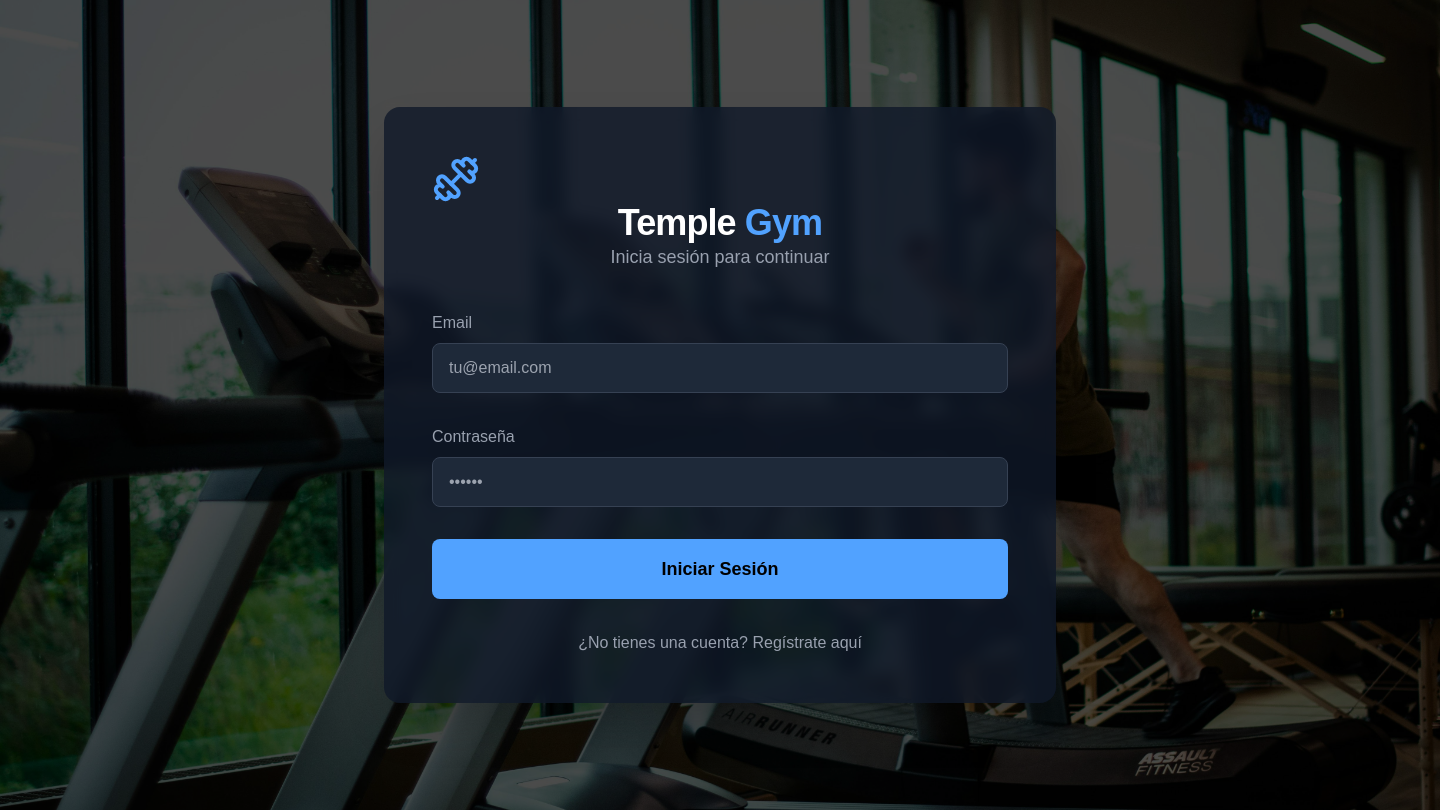
Scenario: LoginForm › Validation Logic › should show error when email is empty
This screenshot has width=1440, height=810.
Type "password123" into the password field labelled "Contraseña". click: (720, 482)
box: [432, 457, 1008, 507]
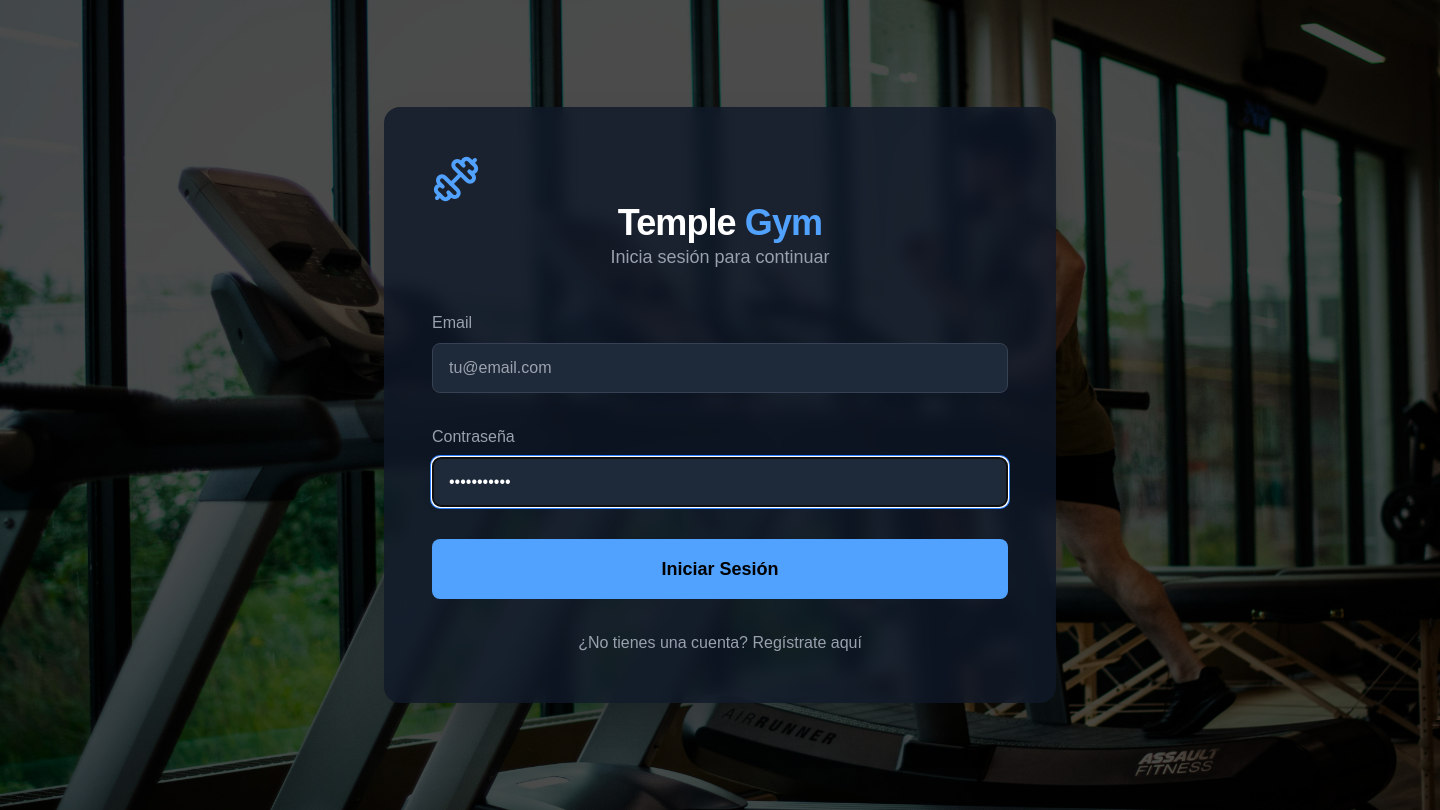
Click the button "Iniciar Sesión". click: (720, 569)
box: [432, 539, 1008, 599]
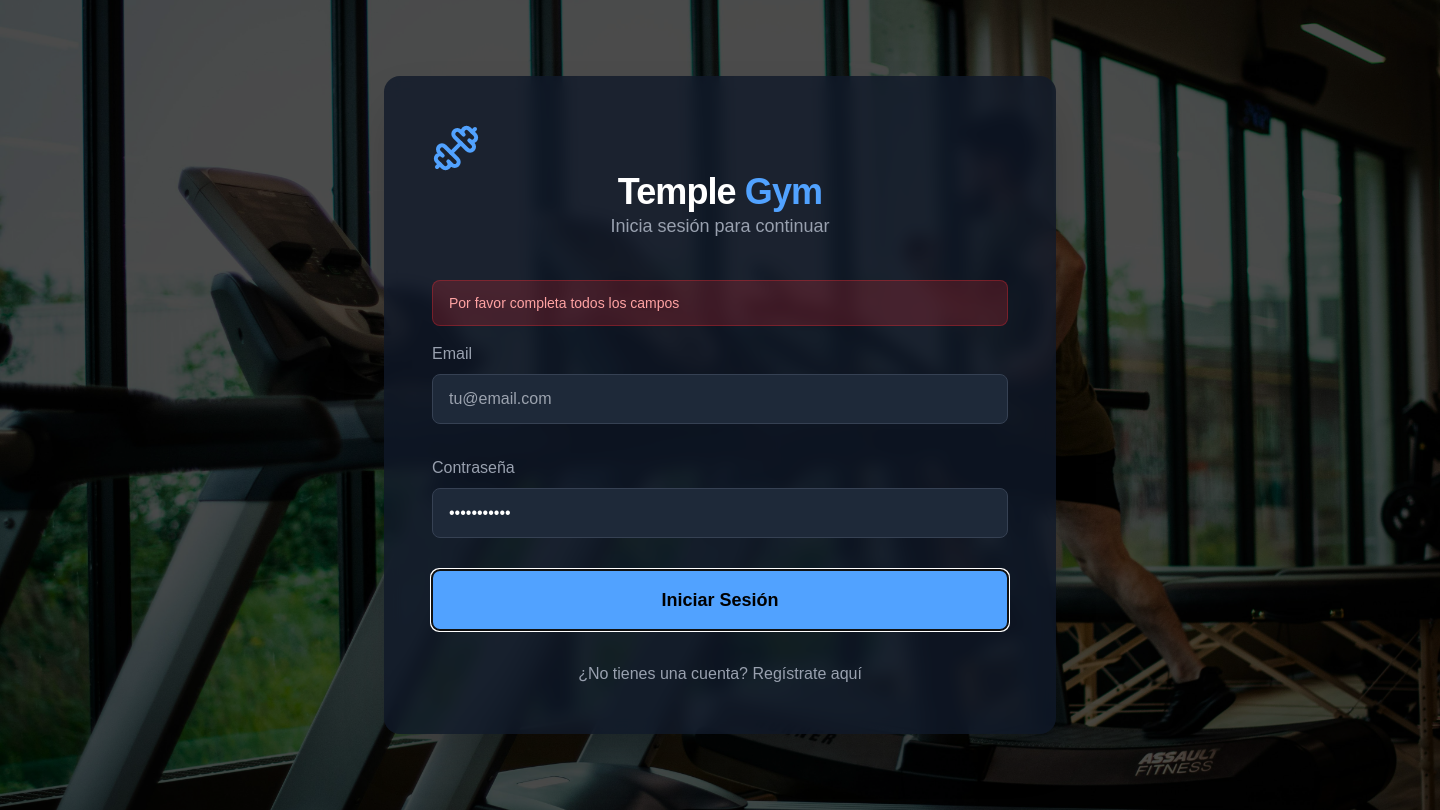
Expected: the text "Por favor completa todos los campos" is shown, [432, 280, 1008, 326]
